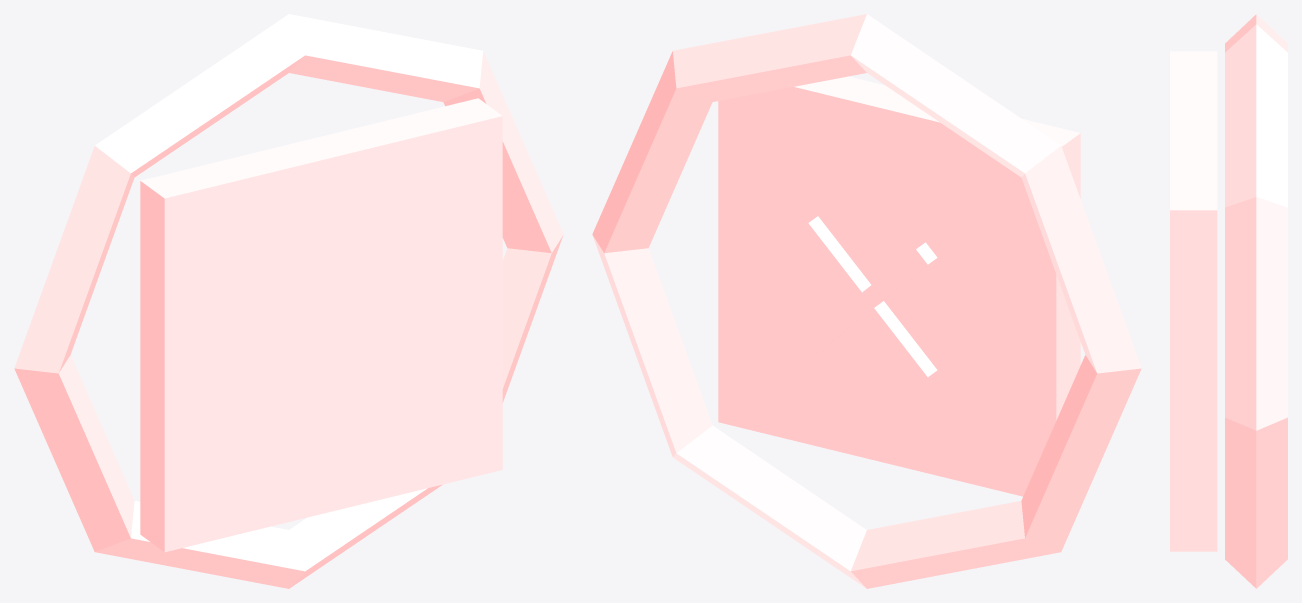
Rendered from tile_exit.glb.
3 renders of one model, left to right at view 1: azimuth 30°, elevation 25°; view 2: azimuth 150°, elevation 25°; view 3: azimuth 270°, elevation 25°, orthographic. The views are drawn at different scales.
Visible parts, largest first — view 1: tile_exit; view 2: tile_exit; view 3: tile_exit.
Part boxes in pixels (x1,y1,x2,y2): tile_exit: [14, 14, 563, 588]; tile_exit: [592, 14, 1141, 588]; tile_exit: [1170, 14, 1287, 588].
Size of the model in its own units: 0.78 by 0.78 by 0.15.
